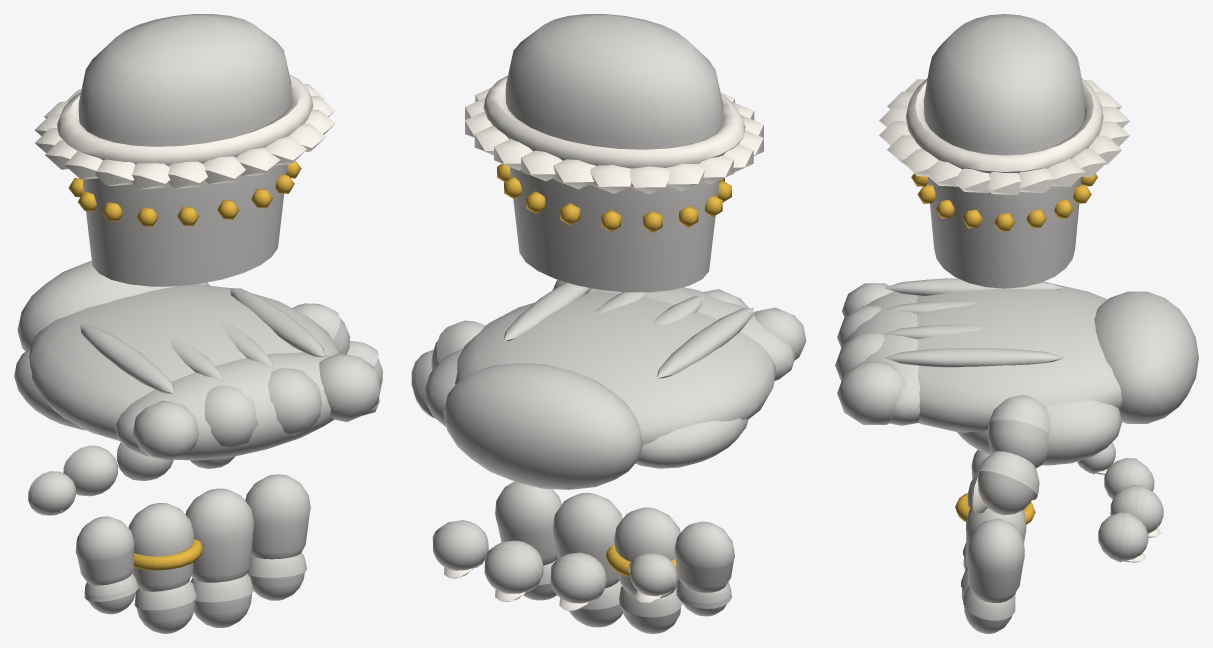
Rendered from Cartagena_Mano.fbx.
The picture shows the model from 3 angles, left to right: view 1: azimuth 30°, elevation 25°; view 2: azimuth 150°, elevation 25°; view 3: azimuth 270°, elevation 25°; orthographic projection. The views are drawn at different scales.
Visible parts, largest first — view 1: Antebrazo, Palma, Dedo_Medio_1, Dedo_Anular_1, Dedo_Indice_1, Dedo_Menique_1, Dedo_Medio_2, Dedo_Anular_2, Dedo_Indice_2, Dedo_Anular_3, Dedo_Menique_3, Dedo_Menique_2 (+3 smaller); view 2: Antebrazo, Palma, Dedo_Medio_1, Dedo_Indice_1, Dedo_Menique_1, Dedo_Anular_1, Dedo_Medio_3, Dedo_Anular_3, Dedo_Indice_3, Dedo_Anular_2, Dedo_Menique_3, Dedo_Medio_2 (+4 smaller); view 3: Palma, Antebrazo, Dedo_Indice_1, Pulgar_2, Pulgar_1, Dedo_Indice_3, Dedo_Medio_3, Dedo_Indice_2, Dedo_Anular_3, Dedo_Medio_1, Dedo_Menique_3, Dedo_Anular_1.
Part boxes in pixels (x1,y1,x2,y2): Antebrazo: (35, 14, 335, 286); Palma: (14, 261, 381, 460); Dedo_Medio_1: (185, 488, 254, 582); Dedo_Anular_1: (128, 503, 202, 591); Dedo_Indice_1: (245, 474, 310, 559); Dedo_Menique_1: (75, 516, 134, 585); Dedo_Medio_2: (191, 573, 253, 627); Dedo_Anular_2: (134, 580, 196, 633); Dedo_Indice_2: (247, 552, 306, 600); Dedo_Anular_3: (63, 445, 118, 496); Dedo_Menique_3: (28, 471, 75, 515); Dedo_Menique_2: (84, 573, 138, 614); Antebrazo: (465, 14, 763, 292); Palma: (424, 279, 806, 489); Dedo_Medio_1: (553, 492, 622, 588); Dedo_Indice_1: (495, 481, 561, 565); Dedo_Menique_1: (674, 521, 734, 592); Dedo_Anular_1: (606, 507, 680, 597); Dedo_Medio_3: (484, 540, 543, 601); Dedo_Anular_3: (550, 552, 606, 610); Dedo_Indice_3: (432, 520, 488, 578); Dedo_Anular_2: (619, 586, 682, 633); Dedo_Menique_3: (628, 553, 677, 602); Dedo_Medio_2: (569, 580, 622, 627); Palma: (835, 278, 1198, 465); Antebrazo: (879, 14, 1129, 288); Dedo_Indice_1: (967, 518, 1024, 602); Pulgar_2: (971, 451, 1039, 515); Pulgar_1: (986, 395, 1050, 468); Dedo_Indice_3: (1098, 512, 1148, 562); Dedo_Medio_3: (1110, 485, 1163, 538); Dedo_Indice_2: (963, 586, 1015, 633); Dedo_Anular_3: (1104, 458, 1154, 499); Dedo_Medio_1: (966, 506, 1026, 567); Dedo_Menique_3: (1077, 442, 1115, 474); Dedo_Anular_1: (955, 476, 1035, 524).
Bounding box in the file's own units: 0.6049 × 1.05 × 0.6031.
